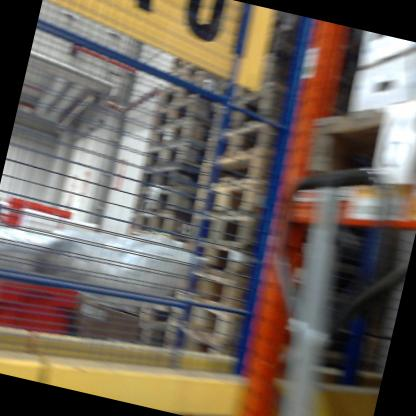pallet: (295, 68, 416, 214), (210, 74, 292, 152), (157, 318, 233, 387), (202, 111, 282, 176), (167, 290, 248, 346), (194, 173, 272, 223), (200, 142, 277, 189), (181, 237, 259, 282), (189, 205, 265, 251), (143, 132, 209, 181), (159, 64, 220, 116), (185, 270, 253, 316), (153, 90, 216, 138), (149, 114, 211, 159), (140, 157, 202, 199), (138, 167, 200, 208), (135, 183, 196, 223), (130, 204, 191, 243), (163, 53, 210, 88), (172, 51, 213, 77)
pallet_truck: (232, 152, 416, 416)
small_load_carrier: (0, 258, 92, 359)
